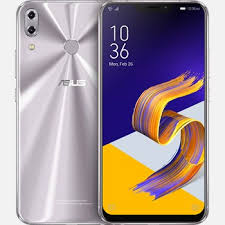asus: (11, 1, 212, 223), (95, 1, 209, 222), (11, 1, 104, 223)
